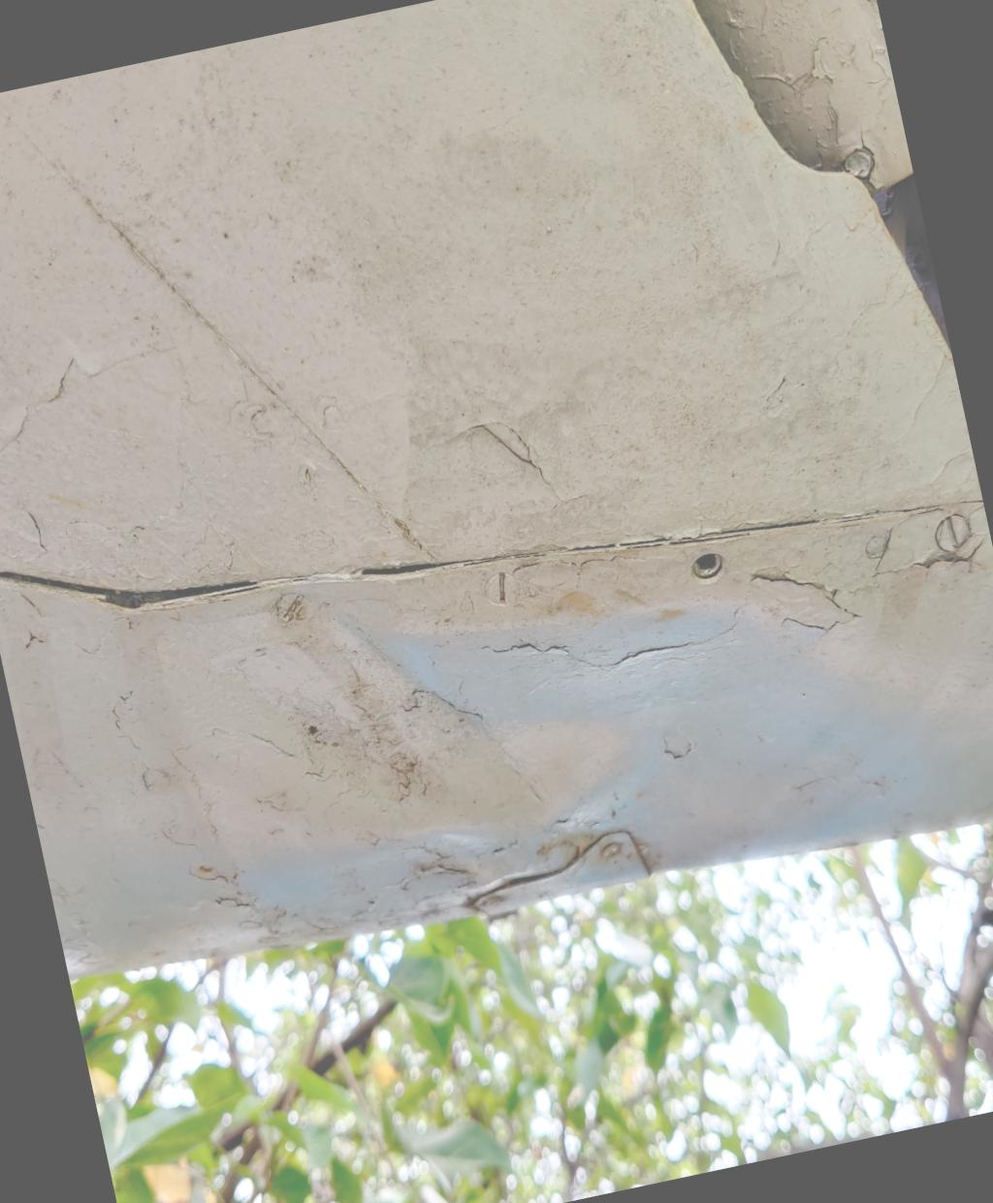dent: (163, 505, 680, 995)
